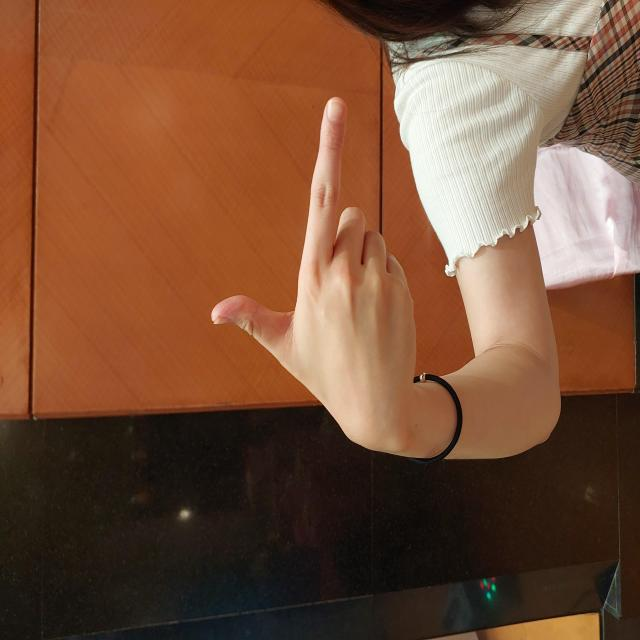G: (184, 209, 544, 419)
